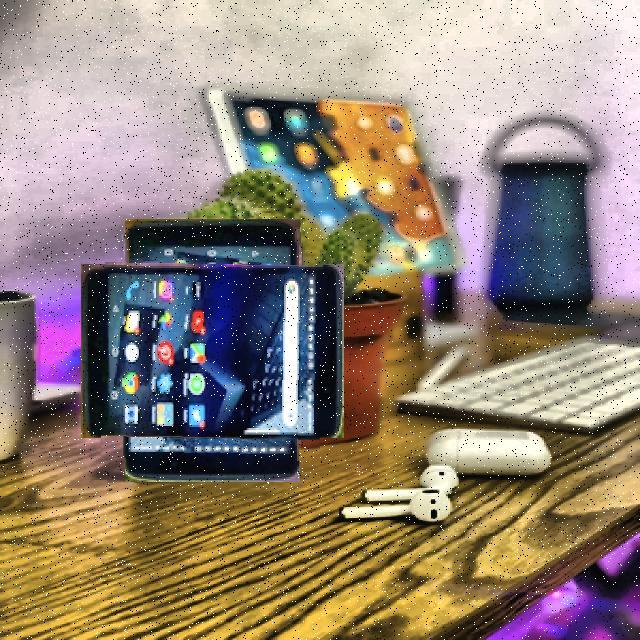Phone: (102, 240, 323, 461)
